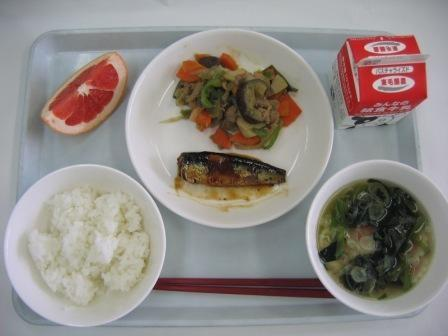Citrus: (39, 44, 141, 144)
Fish: (167, 147, 292, 212)
Milk: (327, 34, 432, 143)
Rice: (7, 173, 168, 318)
Soups: (309, 167, 447, 317)
vegetable based cooked food: (166, 46, 301, 155)
